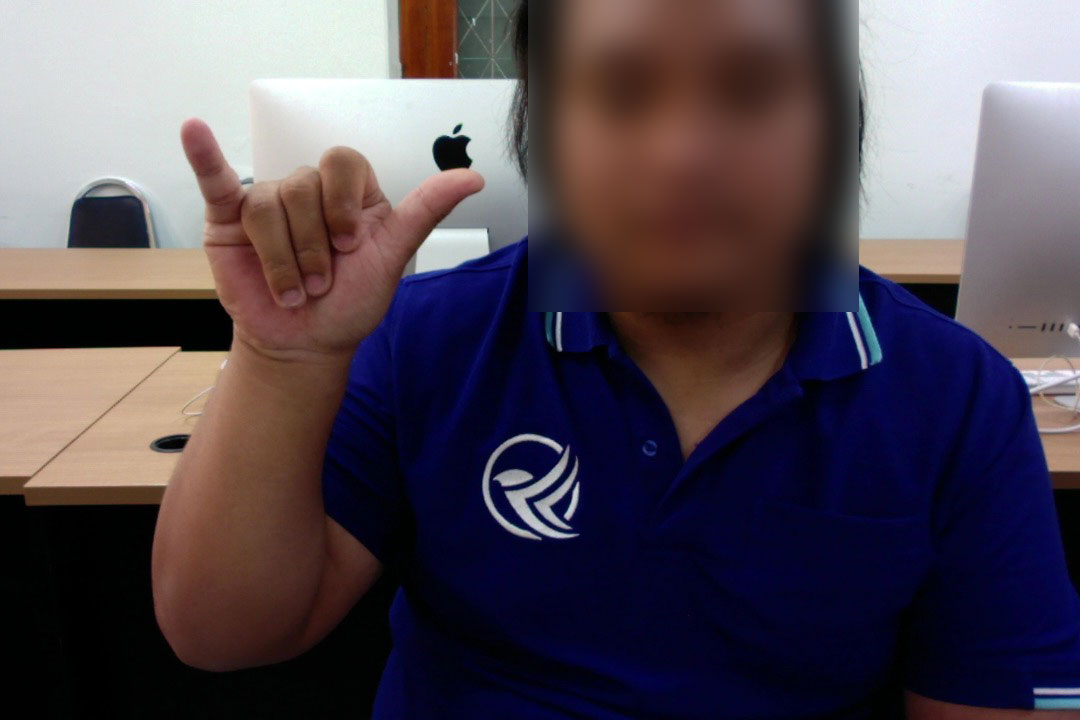yor: (164, 107, 493, 383)
